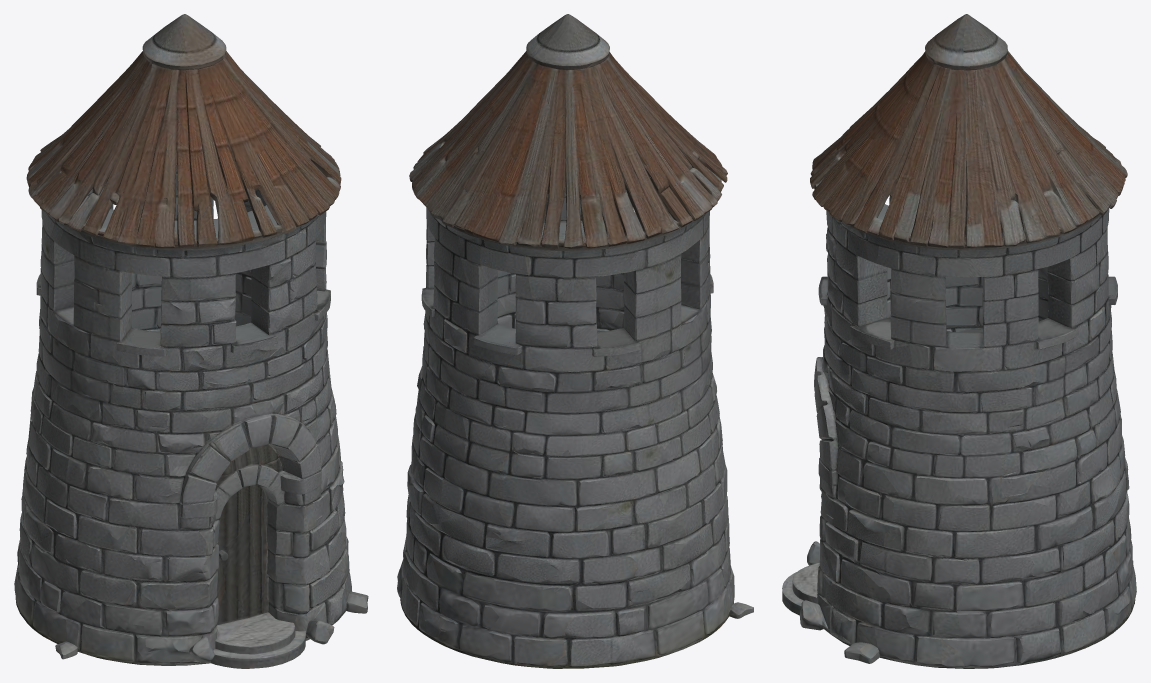
The model's file is tower.glb.
3 views of the same model, side by side, from view 1: azimuth 30°, elevation 25°; view 2: azimuth 150°, elevation 25°; view 3: azimuth 270°, elevation 25° (orthographic).
Visible parts, largest first — view 1: output_unwrapped; view 2: output_unwrapped; view 3: output_unwrapped.
Part boxes in pixels (x1,y1,x2,y2): output_unwrapped: (14, 14, 368, 668); output_unwrapped: (397, 14, 753, 668); output_unwrapped: (782, 14, 1136, 668).
Bounding box in the file's own units: 1.02 × 1.9 × 1.05.
1 material, 1 textured.
